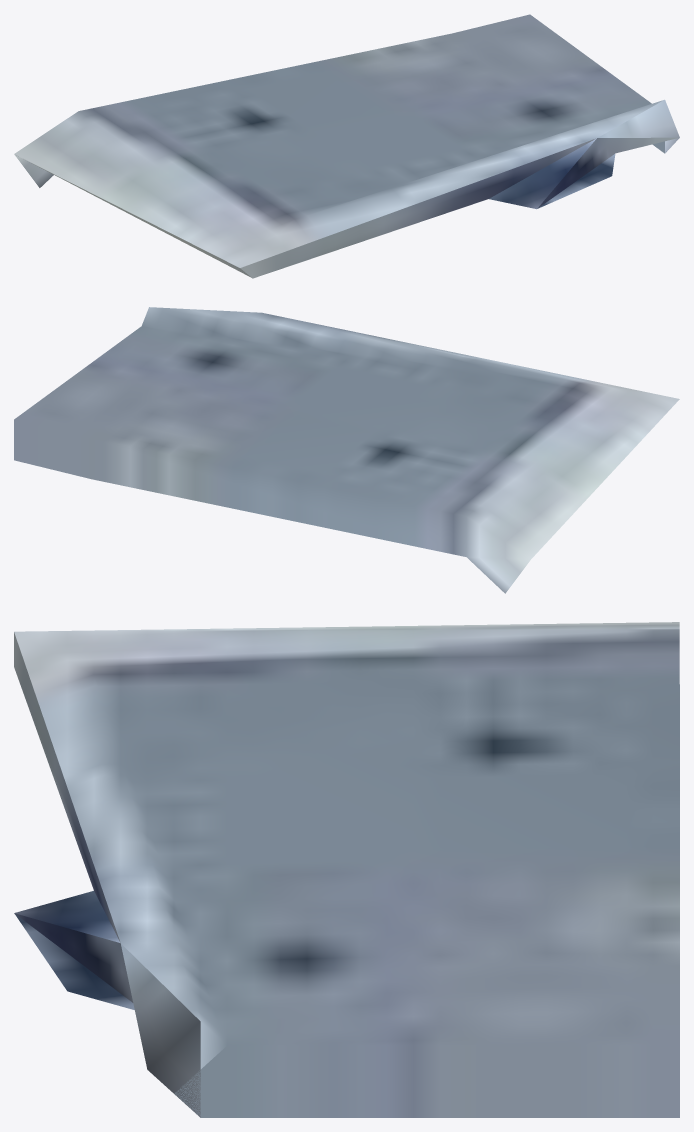
3 views of the same model, one above another, from view 1: azimuth 30°, elevation 25°; view 2: azimuth 150°, elevation 25°; view 3: azimuth 270°, elevation 25° (orthographic). The views are drawn at different scales.
Parts seen in each view (by area): view 1: 3043627270436171747_0; view 2: 3043627270436171747_0; view 3: 3043627270436171747_0.
Boxes of the visible parts, x1,y1,x2,y2 form: 3043627270436171747_0: (14, 14, 679, 278); 3043627270436171747_0: (14, 307, 679, 593); 3043627270436171747_0: (14, 622, 679, 1117).
Bounding box in the file's own units: 12.27 × 1.54 × 7.72.
1 material, 1 textured.
